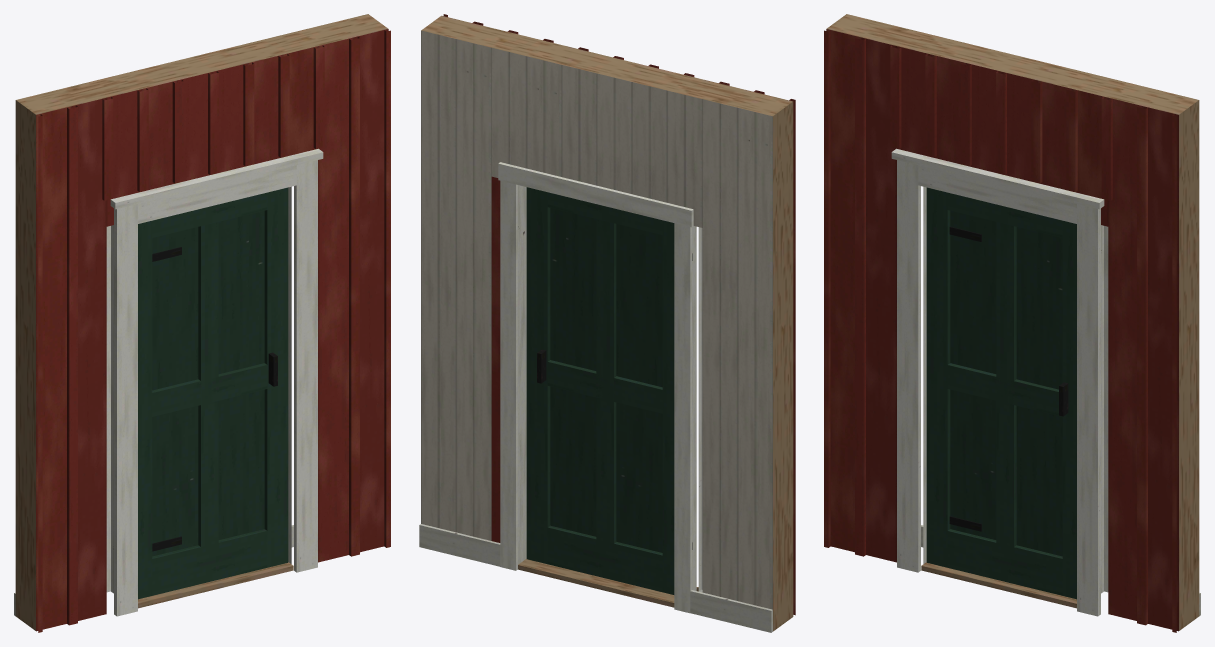
Rendered from nordic-house-wall-door.glb.
3 renders of one model, left to right at view 1: azimuth 30°, elevation 25°; view 2: azimuth 150°, elevation 25°; view 3: azimuth 330°, elevation 25°, orthographic.
Parts seen in each view (by area): view 1: wall_door, door_mesh; view 2: wall_door, door_mesh; view 3: wall_door, door_mesh.
Boxes of the visible parts, <box> form: wall_door: <box>14,14,390,632</box>; door_mesh: <box>138,187,288,599</box>; wall_door: <box>419,14,795,632</box>; door_mesh: <box>526,187,692,594</box>; wall_door: <box>824,14,1200,632</box>; door_mesh: <box>926,187,1076,599</box>.
Size of the model in its own units: 2 by 2.8 by 0.2899.
1 material, 1 textured.
